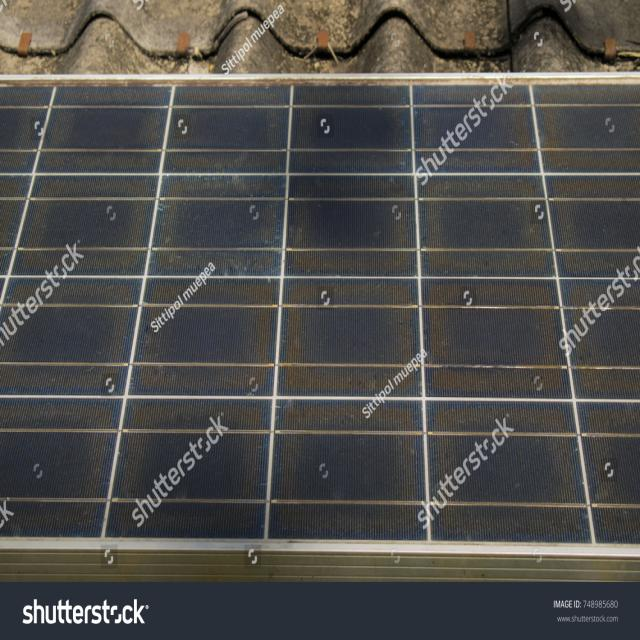dust-solar-panel: (0, 75, 640, 550)
